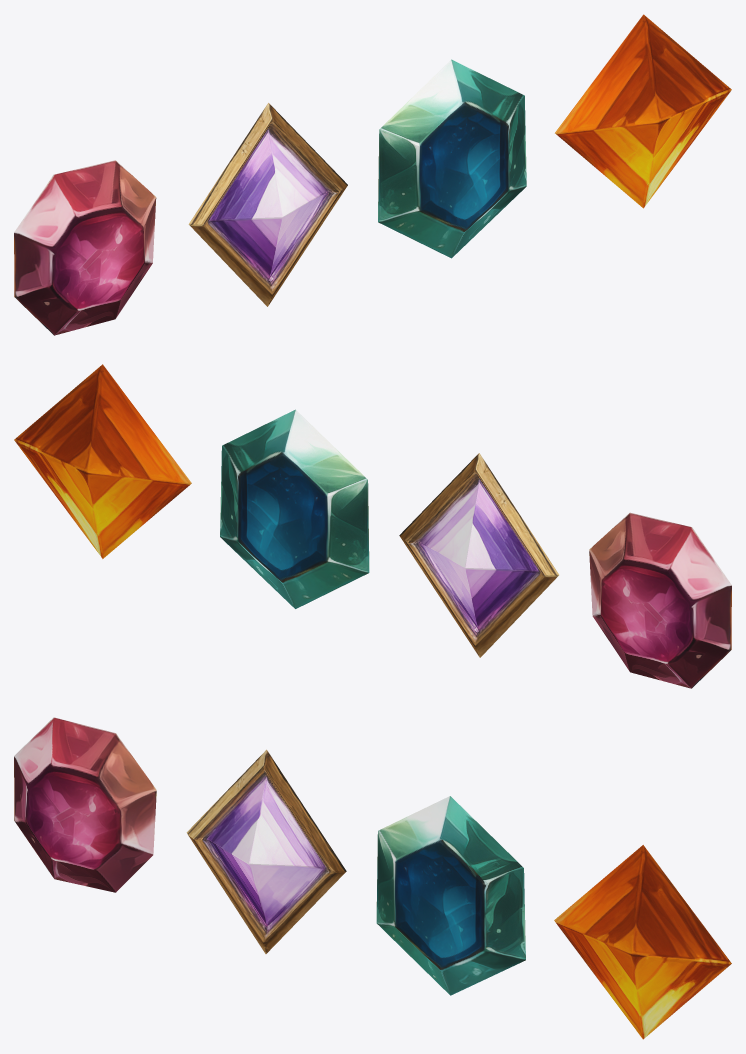
Rendered from gems.glb.
3 views of the same model, one above another, from view 1: azimuth 30°, elevation 25°; view 2: azimuth 150°, elevation 25°; view 3: azimuth 330°, elevation 25° (orthographic).
Parts seen in each view (by area): view 1: Object_3, Object_2, Object_5, Object_4; view 2: Object_3, Object_2, Object_5, Object_4; view 3: Object_3, Object_2, Object_5, Object_4.
Part boxes in pixels (x1,y1,x2,y2): Object_3: (378, 59, 526, 258); Object_2: (14, 160, 156, 335); Object_5: (555, 14, 731, 208); Object_4: (188, 103, 347, 306); Object_3: (220, 409, 369, 608); Object_2: (589, 512, 731, 688); Object_5: (14, 364, 191, 558); Object_4: (399, 453, 558, 657); Object_3: (376, 796, 525, 995); Object_2: (14, 717, 156, 892); Object_5: (554, 845, 731, 1039); Object_4: (186, 749, 346, 953).
Bounding box in the file's own units: 33.52 × 9.14 × 2.55.
Materials: 4 (4 with a texture image).
